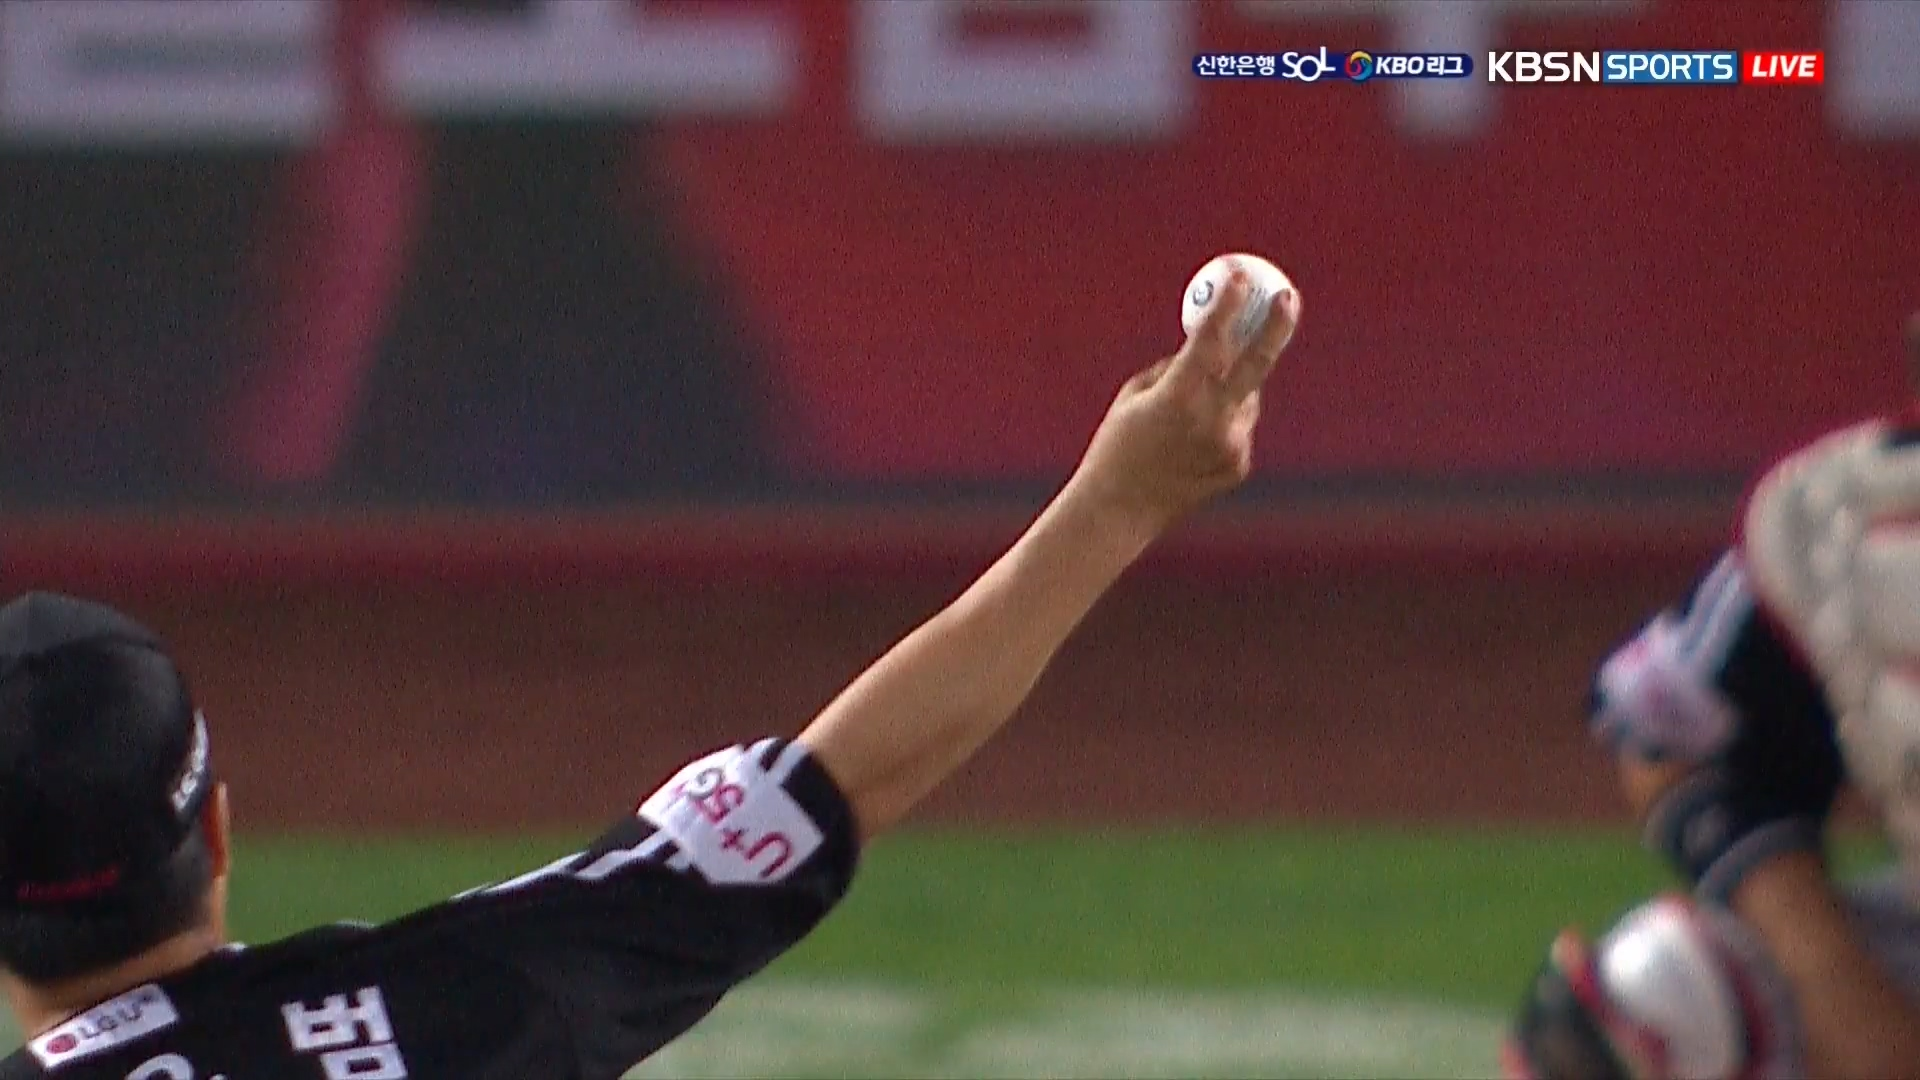zoomin_hand: (732, 223, 1367, 906)
